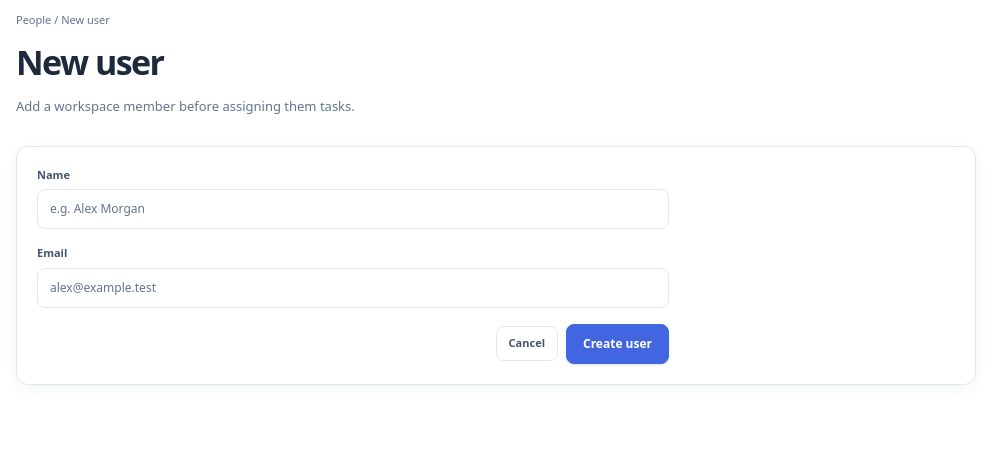
Test: UserForm › server-side validation › shows the API's message in an alert
Type "Ada Lovelace" into the field labelled "Name".
click(353, 209); type("Ada Lovelace")  # box [37, 189, 669, 229]
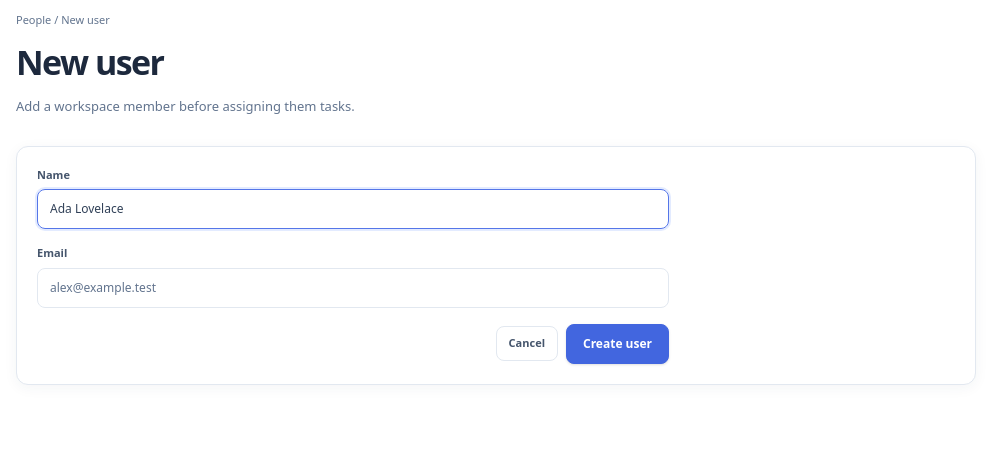
Type "ada@example.test" into the field labelled "Email".
click(353, 288); type("ada@example.test")  # box [37, 268, 669, 308]
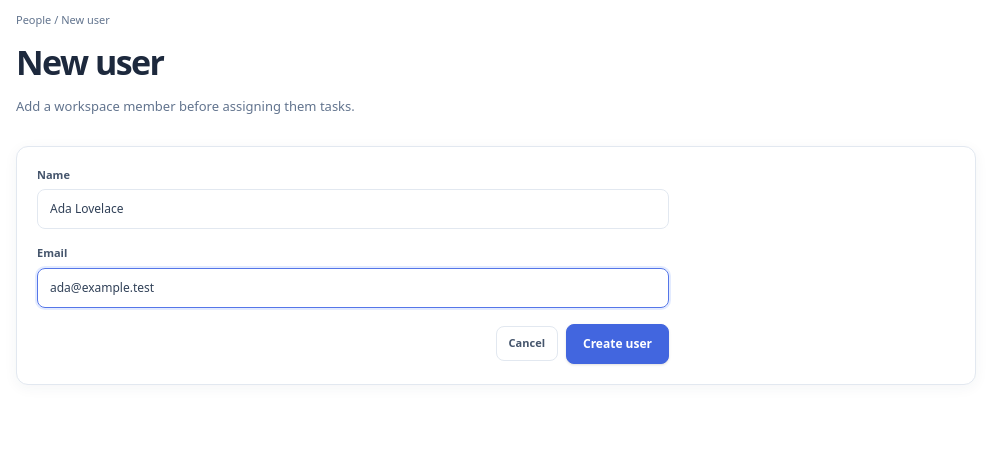
Click the button "Create user".
click(618, 344)  # box [566, 324, 669, 364]
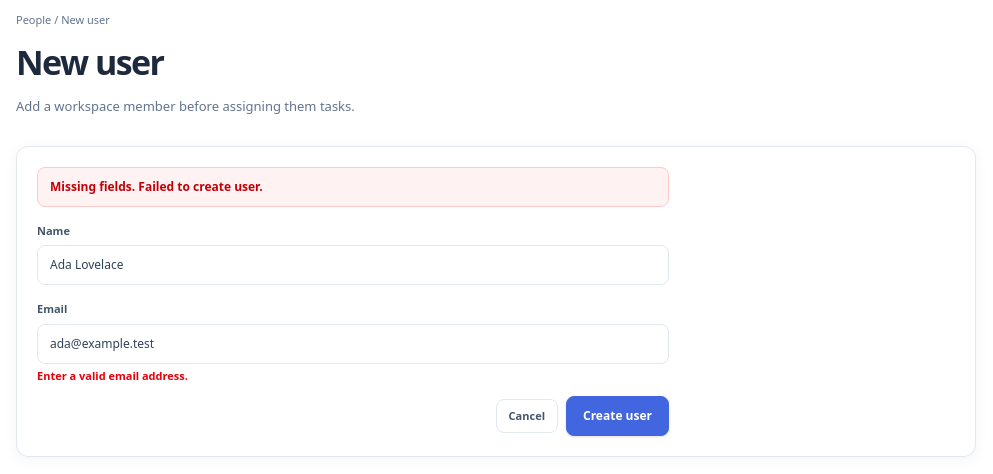
Expected: the message reads "Missing fields. Failed to create user.", [50, 178, 263, 194]
